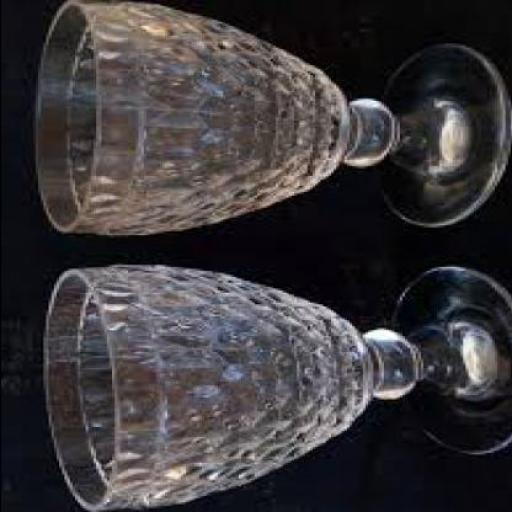glass: (40, 259, 510, 510), (29, 0, 509, 235)
